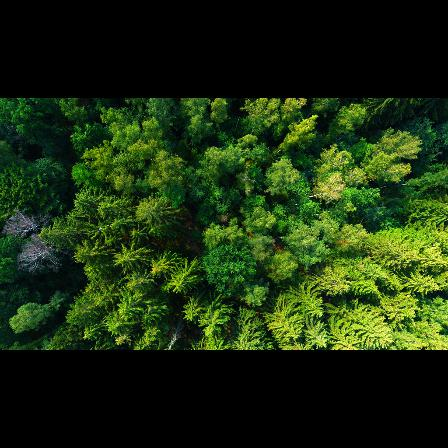Dead: (17, 238, 63, 272), (1, 208, 51, 236), (161, 308, 191, 349)
